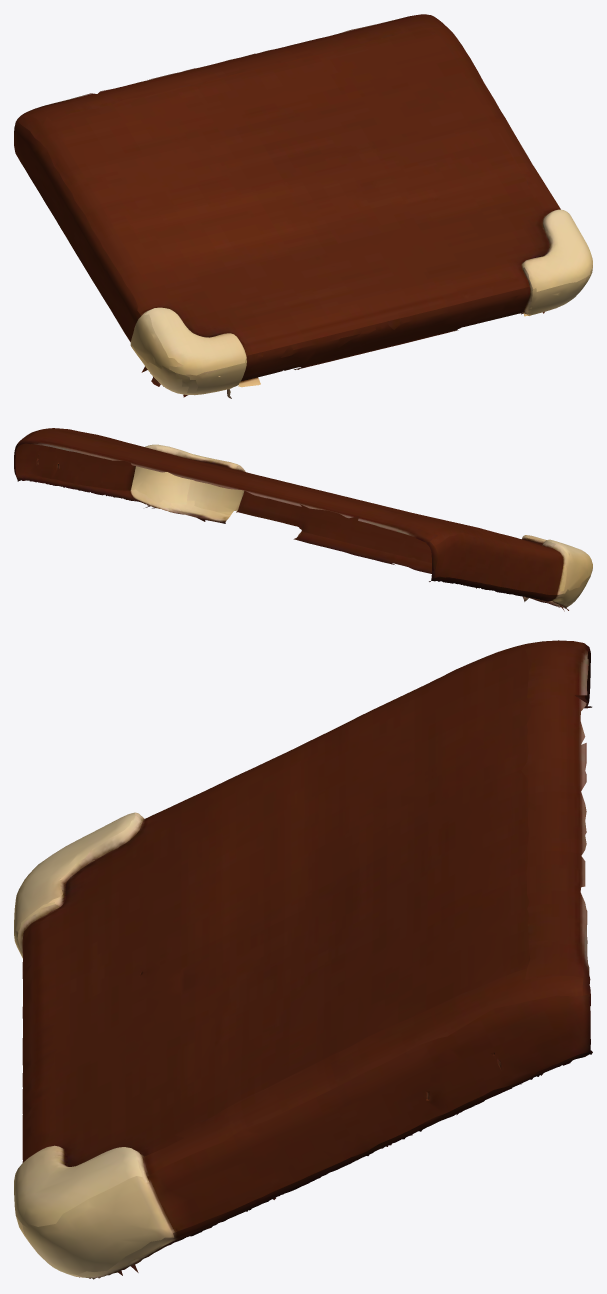
Rendered from lid.glb.
3 renders of one model, top to bottom at view 1: azimuth 30°, elevation 25°; view 2: azimuth 150°, elevation 25°; view 3: azimuth 270°, elevation 25°, orthographic. The views are drawn at different scales.
Visible parts, largest first — view 1: geometry_0; view 2: geometry_0; view 3: geometry_0.
Boxes of the visible parts, x1,y1,x2,y2 form: geometry_0: (14,14,592,398); geometry_0: (14,428,592,611); geometry_0: (14,640,592,1279).
Size of the model in its own units: 0.2193 by 0.0926 by 0.1465.
1 material, 1 textured.
